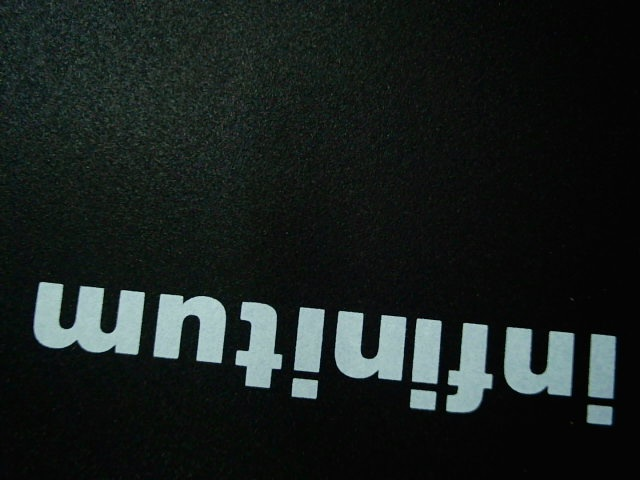BK_infinitum: (21, 268, 626, 432)
